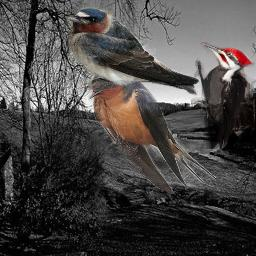Swallow: (88, 65, 216, 194), (64, 6, 201, 96)
Woodpecker: (191, 42, 255, 149)
